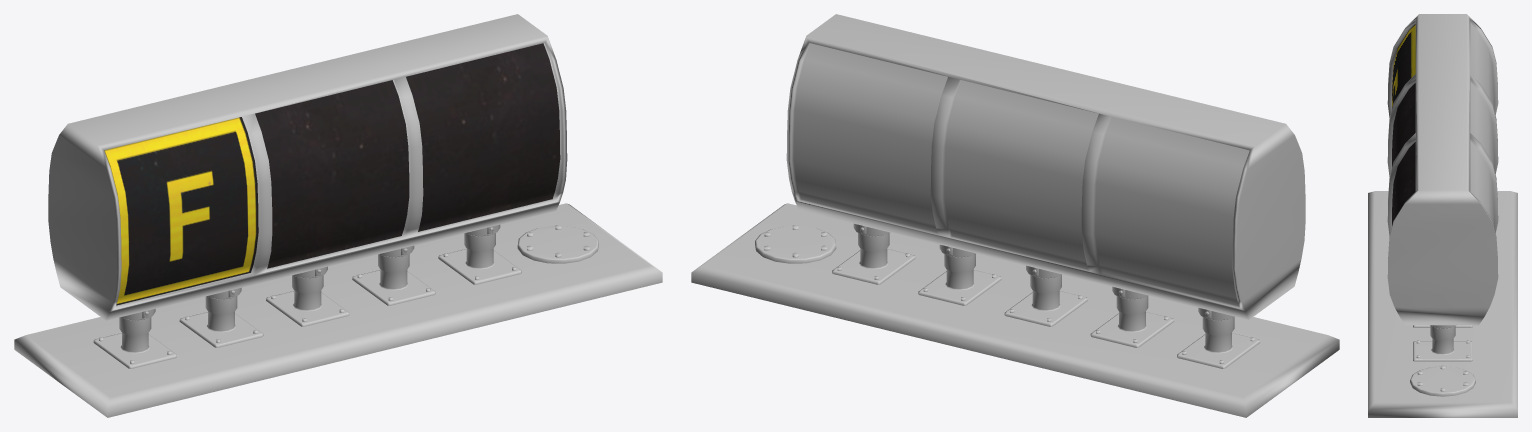
Rendered from leuchtschild_taxiway_01.fbx.
3 views of the same model, side by side, from view 1: azimuth 30°, elevation 25°; view 2: azimuth 150°, elevation 25°; view 3: azimuth 270°, elevation 25° (orthographic). The views are drawn at different scales.
Parts seen in each view (by area): view 1: Mesh; view 2: Mesh; view 3: Mesh.
Boxes of the visible parts, x1,y1,x2,y2 form: Mesh: [14, 14, 662, 417]; Mesh: [691, 14, 1339, 417]; Mesh: [1368, 14, 1517, 417].
Bounding box in the file's own units: 267 × 112 × 77.97.
